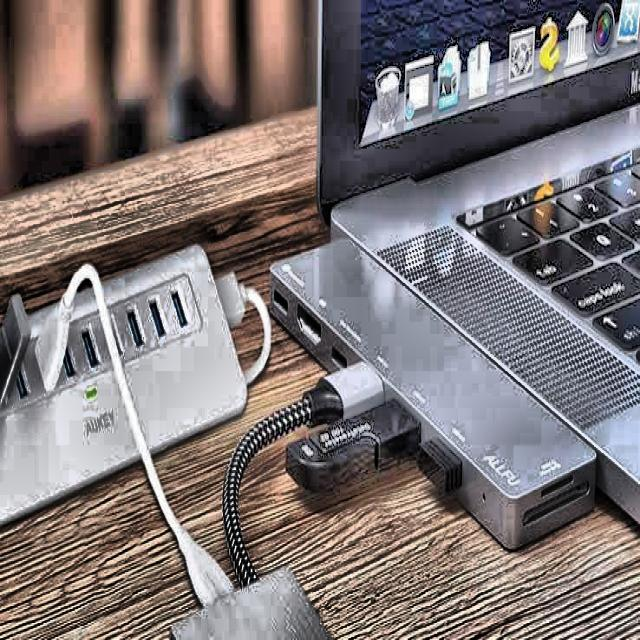HUB: (225, 241, 595, 583), (0, 244, 270, 524)
